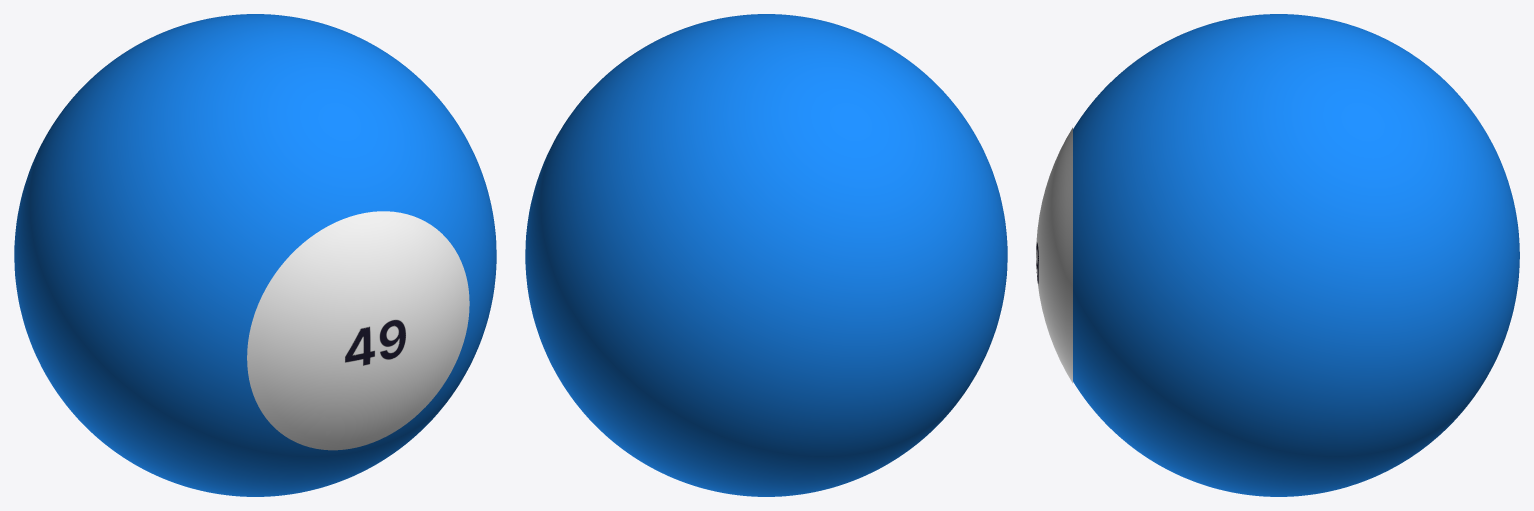
Rendered from ball-49.glb.
The picture shows the model from 3 angles, left to right: view 1: azimuth 30°, elevation 25°; view 2: azimuth 150°, elevation 25°; view 3: azimuth 270°, elevation 25°; orthographic projection.
Visible parts, largest first — view 1: Ball_49_Shell, Ball_49_Number_Disc; view 2: Ball_49_Shell; view 3: Ball_49_Shell, Ball_49_Number_Disc.
Part boxes in pixels (x1,y1,x2,y2): Ball_49_Shell: (14, 14, 496, 496); Ball_49_Number_Disc: (247, 211, 469, 450); Ball_49_Shell: (525, 14, 1007, 496); Ball_49_Shell: (1073, 14, 1519, 496); Ball_49_Number_Disc: (1036, 127, 1072, 383).
Bounding box in the file's own units: 1.84 × 1.84 × 1.84.
2 materials, 1 textured.
